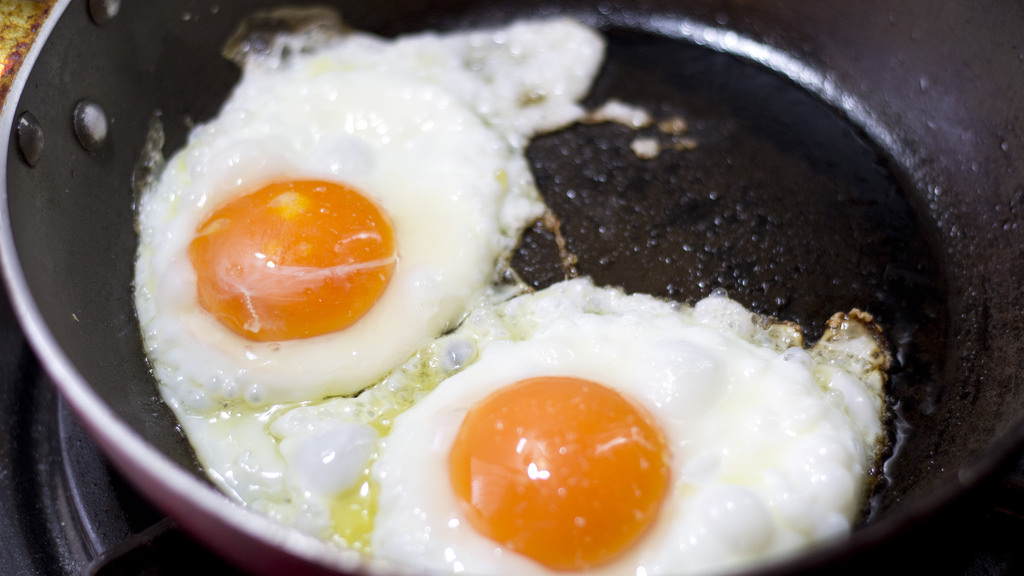fried egg: (361, 304, 847, 570), (152, 56, 504, 394)
